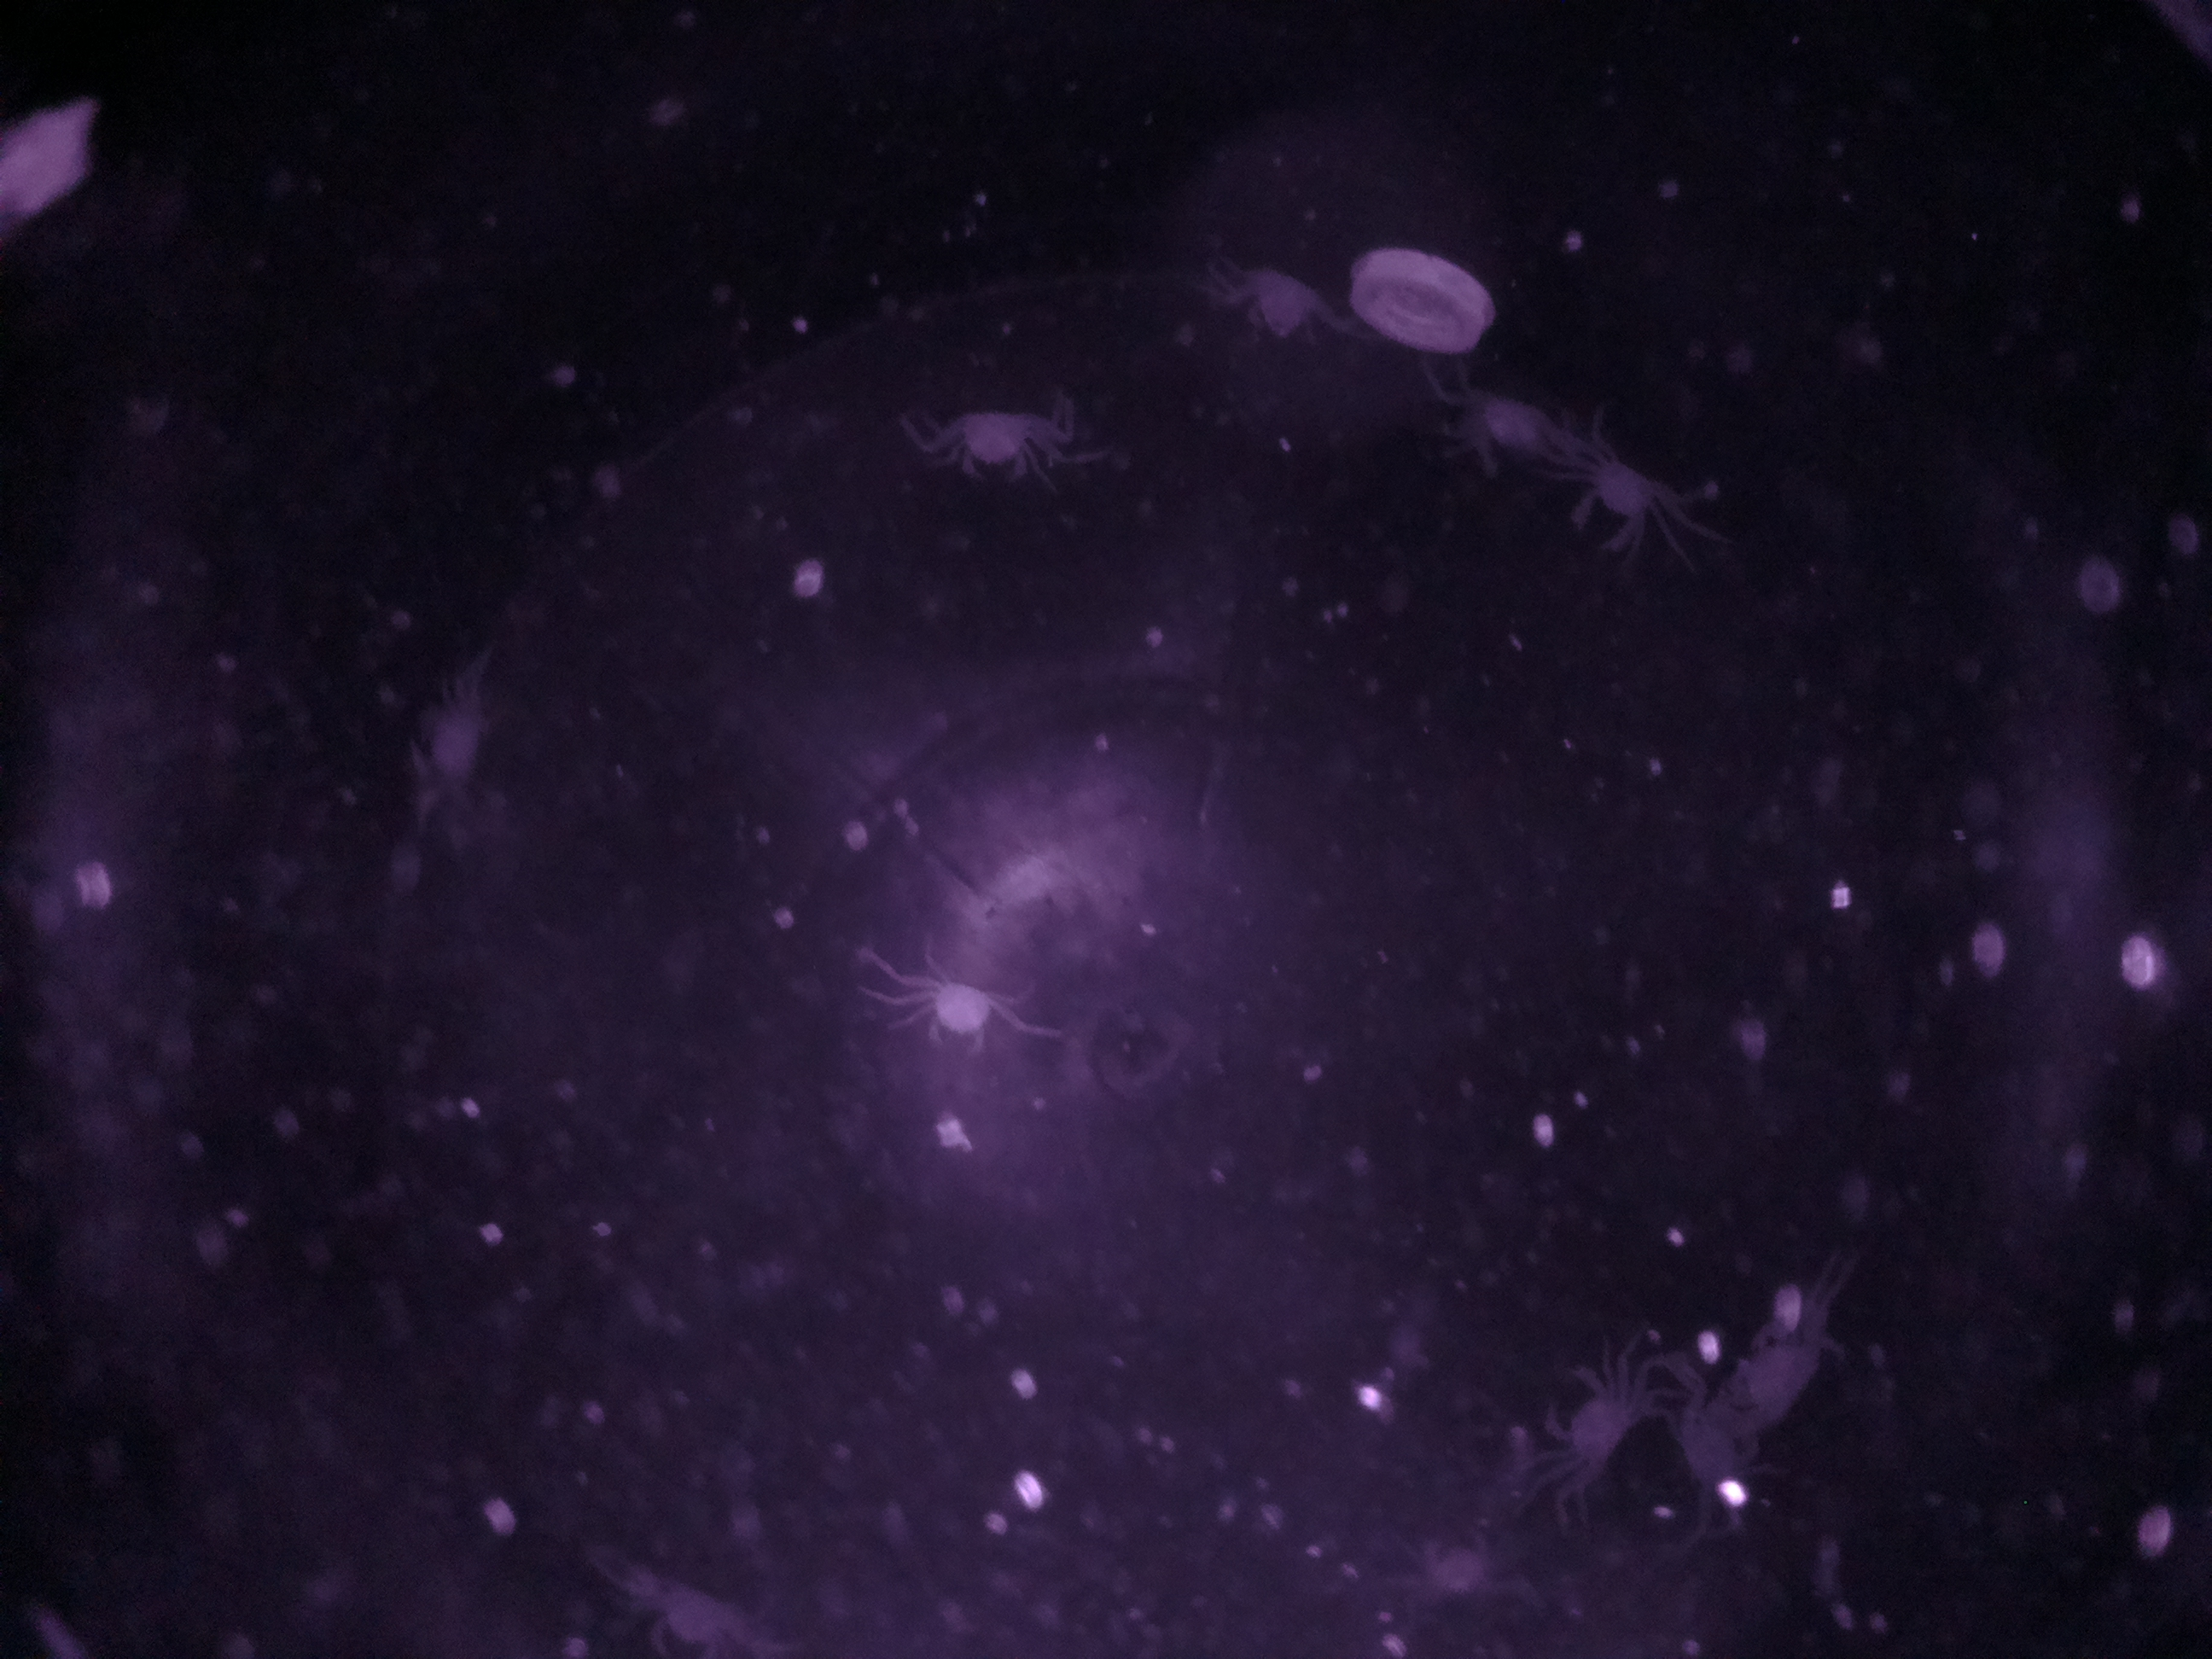Crab: (1529, 1352, 1644, 1474), (1568, 441, 1674, 566), (913, 950, 1012, 1077), (941, 392, 1049, 495)
